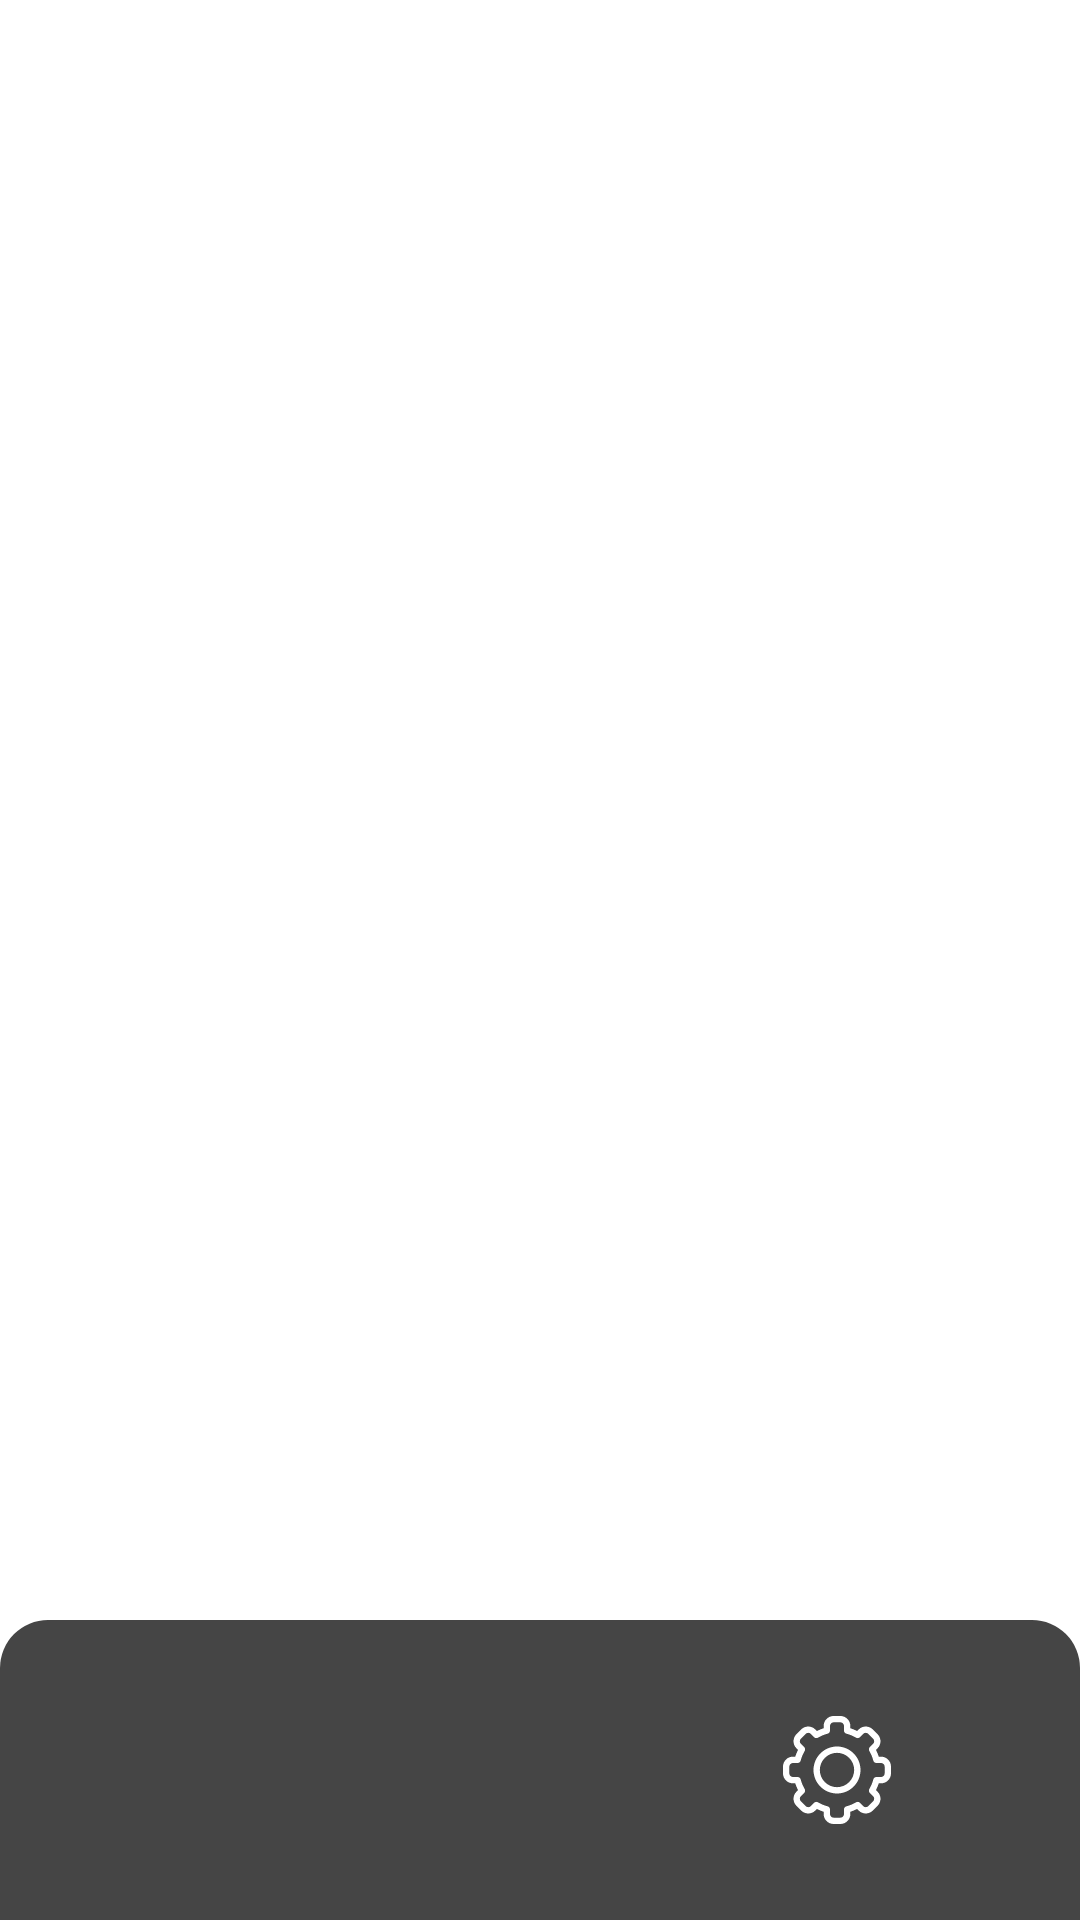

Icon bounding boxes for this 1080 × 1920 phone screenshot, format bbox=(x1, y1, x2, y2):
navbar setting: bbox=(783, 1716, 891, 1824)
